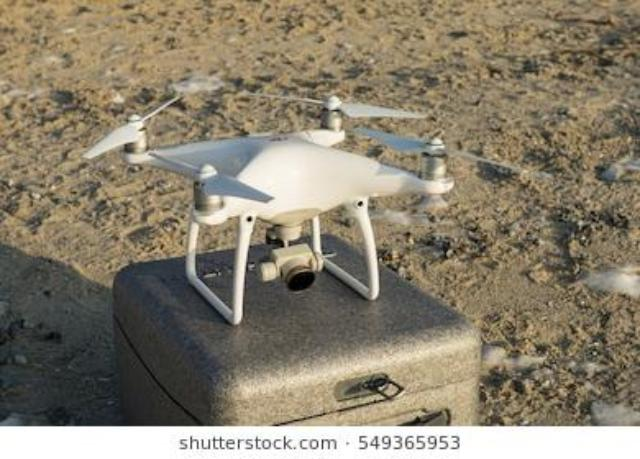drone: (40, 64, 508, 347)
